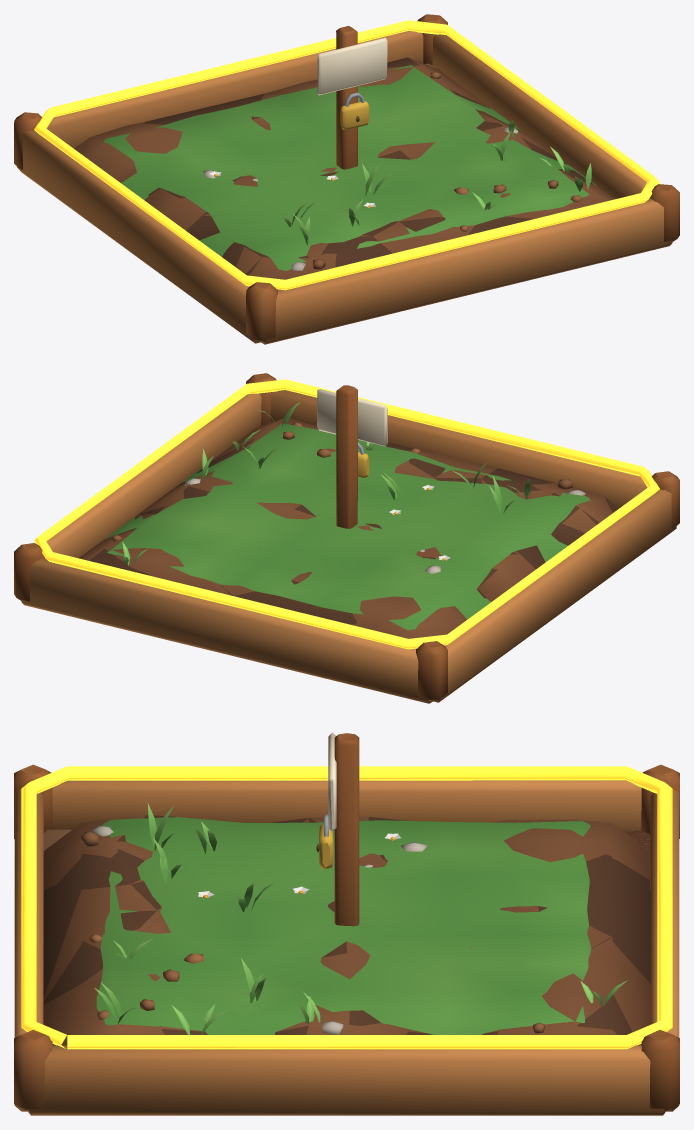
3 renders of one model, top to bottom at view 1: azimuth 30°, elevation 25°; view 2: azimuth 150°, elevation 25°; view 3: azimuth 270°, elevation 25°, orthographic. The views are drawn at different scales.
Parts seen in each view (by area): view 1: bed_frame, bed_turf, bed_ripe_rim, bed_dug, bed_lock, bed_wet, bed_empty; view 2: bed_frame, bed_turf, bed_ripe_rim, bed_dug, bed_lock, bed_wet, bed_empty; view 3: bed_turf, bed_frame, bed_ripe_rim, bed_dug, bed_wet, bed_lock, bed_empty.
Boxes of the visible parts, x1,y1,x2,y2 form: bed_frame: (14, 14, 679, 344); bed_turf: (104, 65, 597, 270); bed_ripe_rim: (34, 20, 659, 290); bed_dug: (74, 58, 615, 279); bed_lock: (317, 26, 387, 169); bed_wet: (144, 57, 594, 275); bed_empty: (203, 52, 569, 270); bed_frame: (14, 373, 679, 703); bed_turf: (101, 402, 590, 630); bed_ripe_rim: (34, 379, 659, 649); bed_dug: (79, 418, 619, 638); bed_lock: (317, 385, 387, 528); bed_wet: (89, 438, 618, 624); bed_empty: (122, 429, 585, 573); bed_turf: (94, 803, 591, 1034); bed_frame: (14, 764, 679, 1115); bed_ripe_rim: (21, 766, 672, 1049); bed_dug: (43, 815, 650, 1045); bed_wet: (43, 815, 650, 1045); bed_lock: (316, 732, 359, 926); bed_empty: (43, 825, 649, 1034).
Size of the model in its own units: 1.6 by 0.6702 by 1.6.
